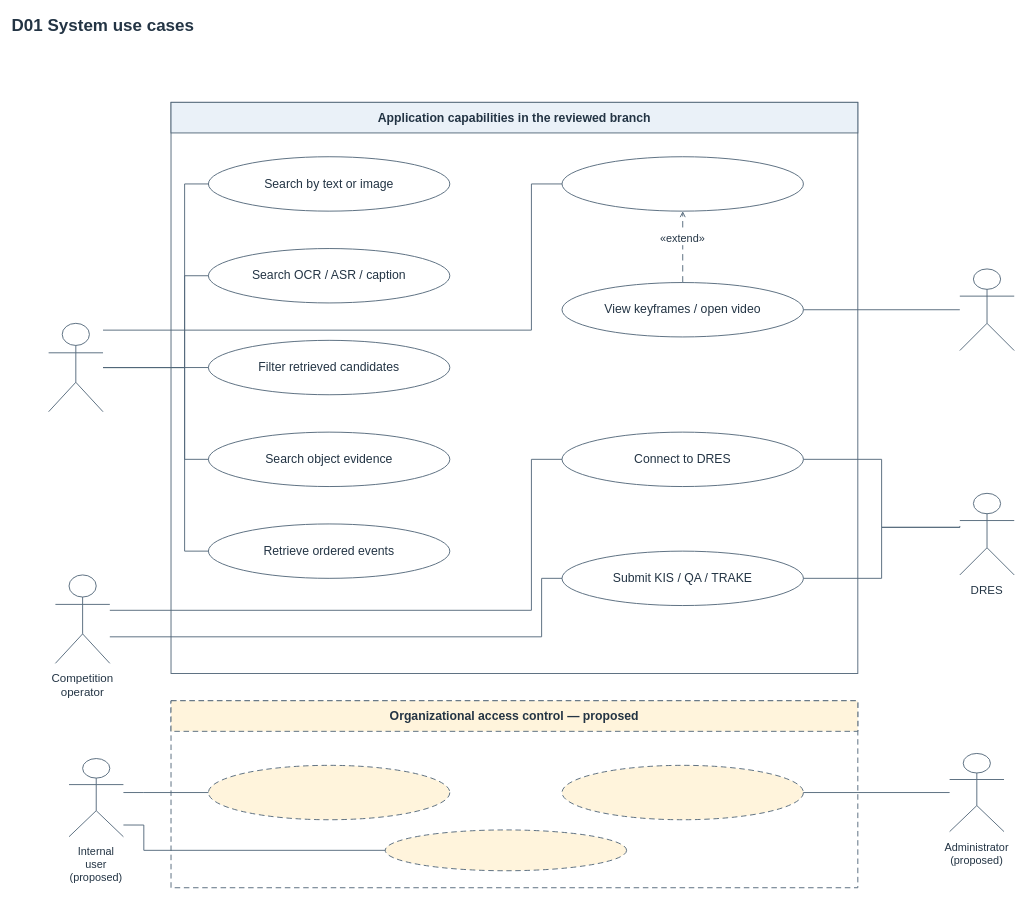
The diagram is 1026 pixels wide and 900 high, and some of its shapes have lost their labels. The shapes that lost their labels are listed below. From the top down, each one's box as (x1, y1, x2, y2) in pixels, then its label:
(561, 156, 804, 211): Inspect results and neighbours
(959, 268, 1014, 351): Video host (YouTube)
(48, 323, 103, 412): Search operator
(208, 765, 450, 820): Authenticate internal user
(561, 765, 804, 820): Manage roles and resource grants
(384, 829, 627, 871): Access granted resources
